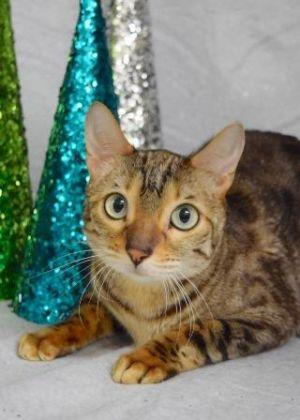bengal: (74, 90, 253, 305)
